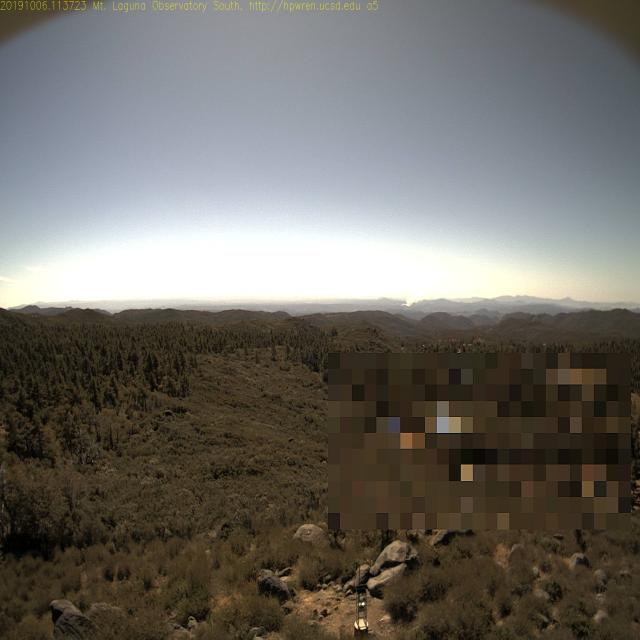smoke: (397, 290, 425, 308)
